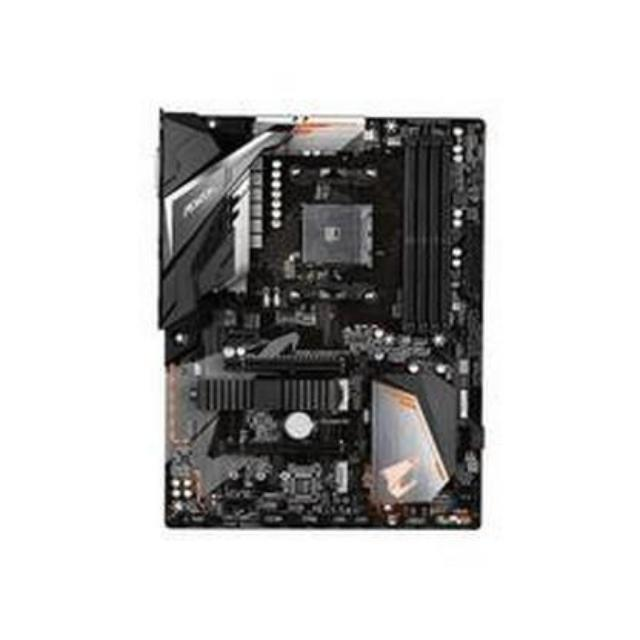Mainboard: (139, 93, 493, 539)
